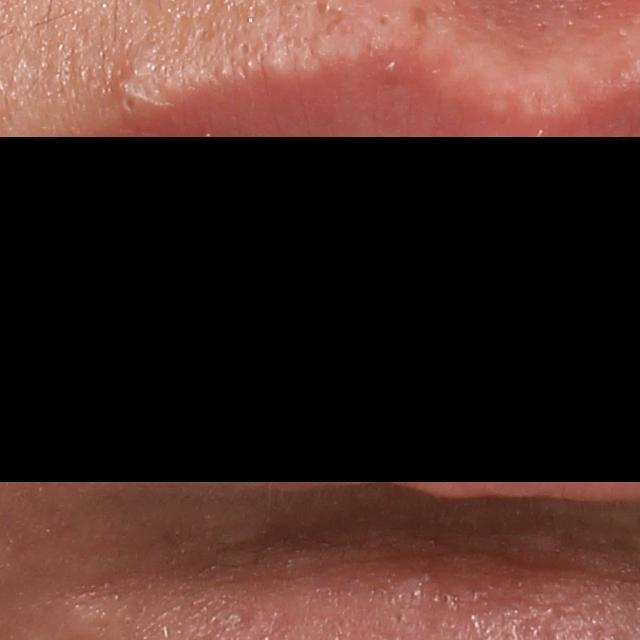hypertrophic_scar: (58, 598, 116, 640)
